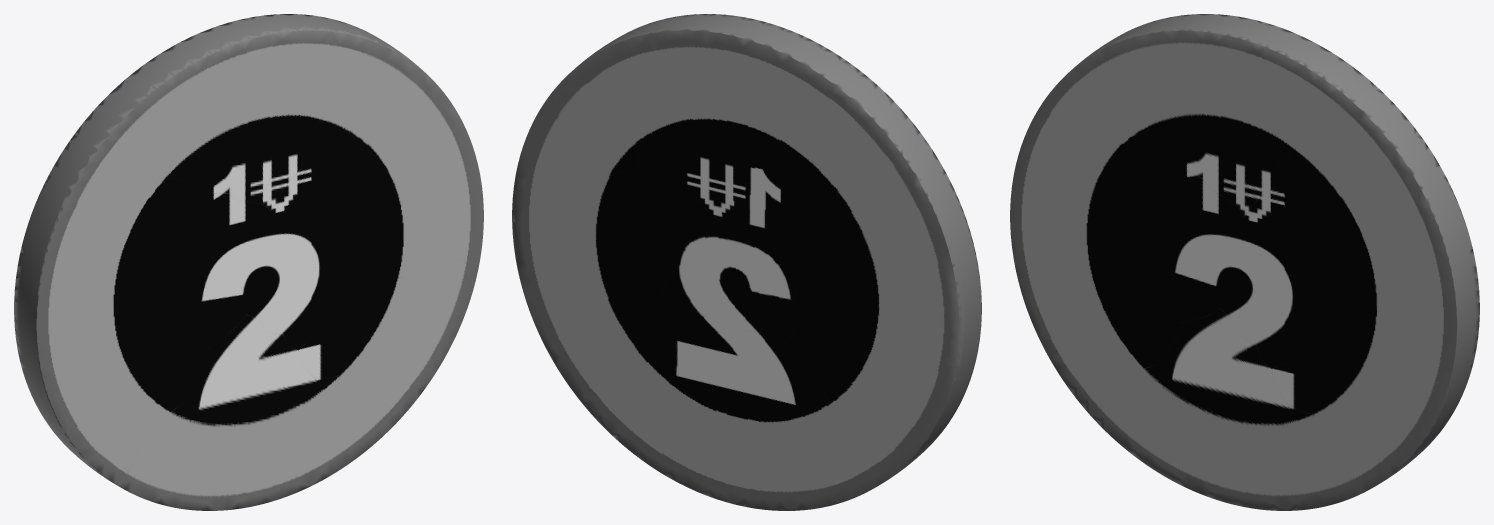
The picture shows the model from 3 angles, left to right: view 1: azimuth 30°, elevation 25°; view 2: azimuth 150°, elevation 25°; view 3: azimuth 330°, elevation 25°; orthographic projection.
Parts seen in each view (by area): view 1: node_id27; view 2: node_id27; view 3: node_id27.
Part boxes in pixels (bbox=[...]): node_id27: bbox=[14, 14, 483, 510]; node_id27: bbox=[512, 14, 981, 510]; node_id27: bbox=[1010, 14, 1479, 510].
Bounding box in the file's own units: 0.512 × 0.512 × 0.0447.
Materials: 1 (1 with a texture image).
